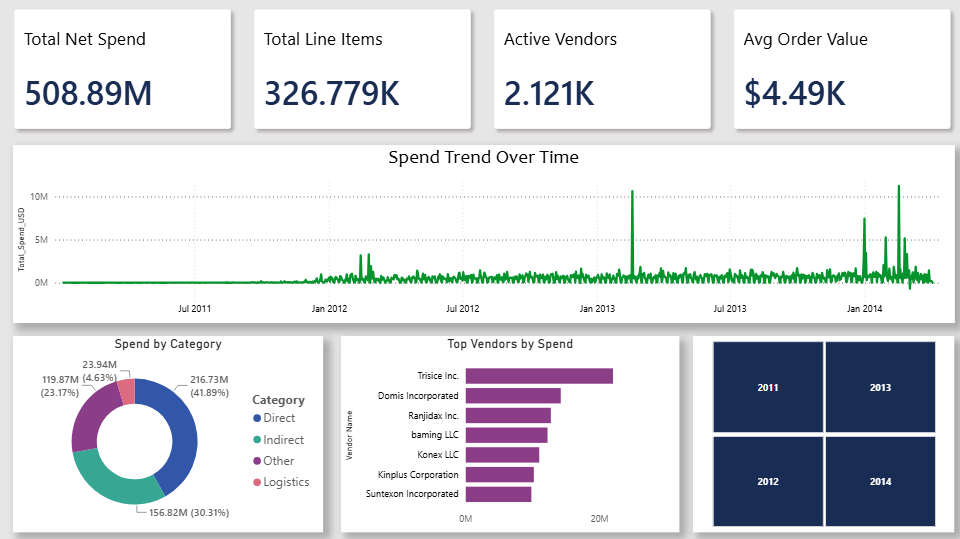

What the dashboard file says about the page in this screenshot:
{"tool":"powerbi","page":{"name":"Procurement Overview","canvas":[1280,720],"ordinal":0},"visuals":[{"type":"cardVisual","fields":{"Data":["Invoice Line Item.Total_Net_Spend","Invoice Line Item.Total_Line_Items","Invoice Line Item.Active_Vendor_Count","Invoice Line Item.AVG_Invoice_Value"]},"box":[9.2,0,1270.8,199],"z":0},{"type":"lineChart","title":"Spend Trend Over Time","fields":{"Category":["Table2.DATE"],"Y":["Invoice Line Item.Total_Spend_USD"]},"box":[28.9,199.4,1232.8,232.9],"z":1000},{"type":"donutChart","title":"Spend by Category","fields":{"Category":["Item.Category"],"Y":["Invoice Line Item.sum_top_category"]},"box":[28.9,449,406.4,257.2],"z":2000},{"type":"barChart","title":"Top Vendors by Spend","fields":{"Category":["Vendor.Vendor Name"],"Y":["Invoice Line Item.Total_Spend_USD"]},"box":[458.1,449,442.9,257.2],"z":3000},{"type":"slicer","fields":{"Values":["Table2.Y"]},"box":[919.3,449,342.4,257.2],"z":4000}]}

Visuals, with their boxes in screenshot pixels (x1, y1, x2, y2), scaled from the page's 1280x720 canvas onto the 960x539 screenshot:
cardVisual - Invoice Line Item.Total_Net_Spend x Invoice Line Item.Total_Line_Items: <box>7,0,959,149</box>
"Spend Trend Over Time" lineChart: <box>22,149,946,324</box>
"Spend by Category" donutChart: <box>22,336,326,529</box>
"Top Vendors by Spend" barChart: <box>344,336,676,529</box>
slicer - Table2.Y: <box>689,336,946,529</box>
